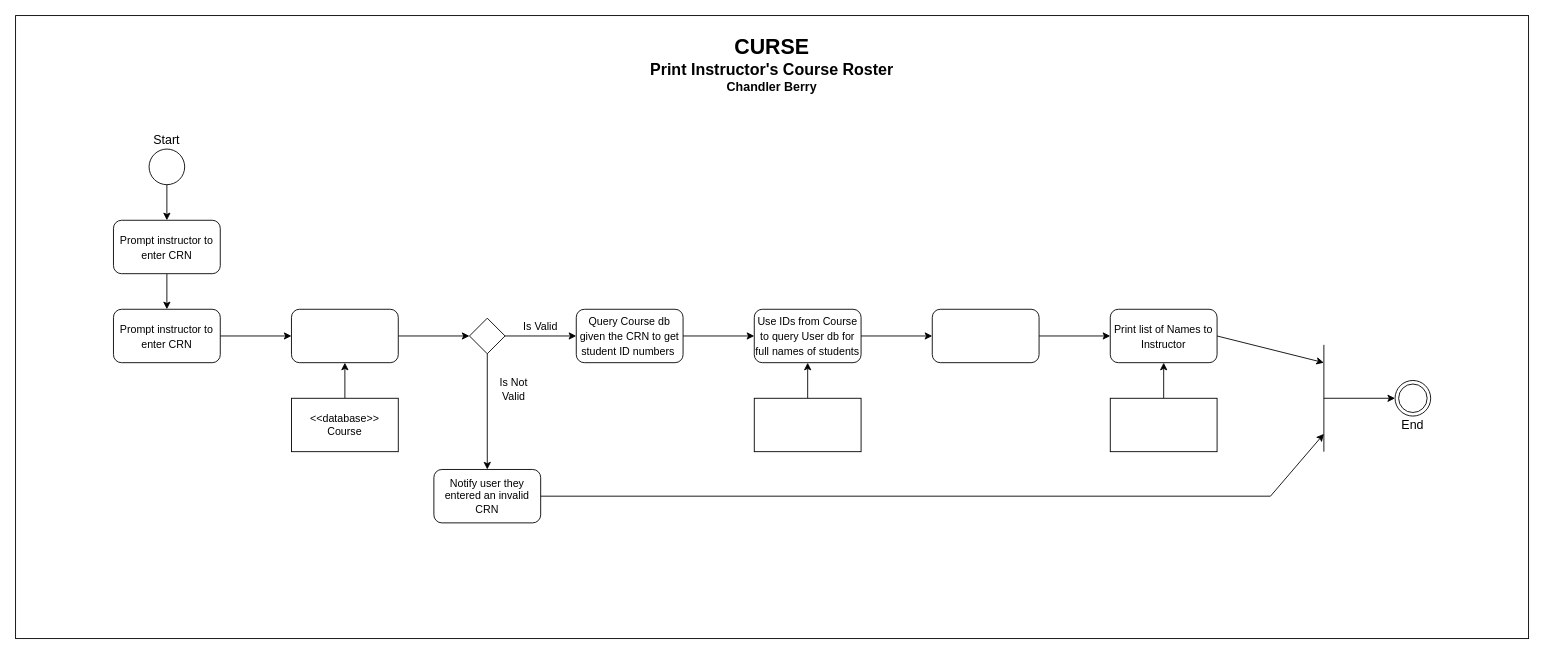
Some shapes in this 1544 by 654 pixel diagram are drawn without their labels. The centre of each missing label's shape, as x and y in pixels:
"<<database>> User" goes at [807,424].
"<<system>> GUI" goes at [1163,424].
"Check db to verify CRN" goes at [344,335].
"Format Student Names into list" goes at [985,335].
